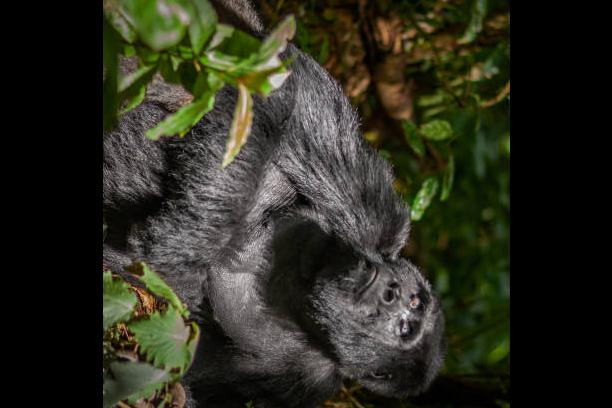goriile_montagne: (123, 22, 485, 408)
